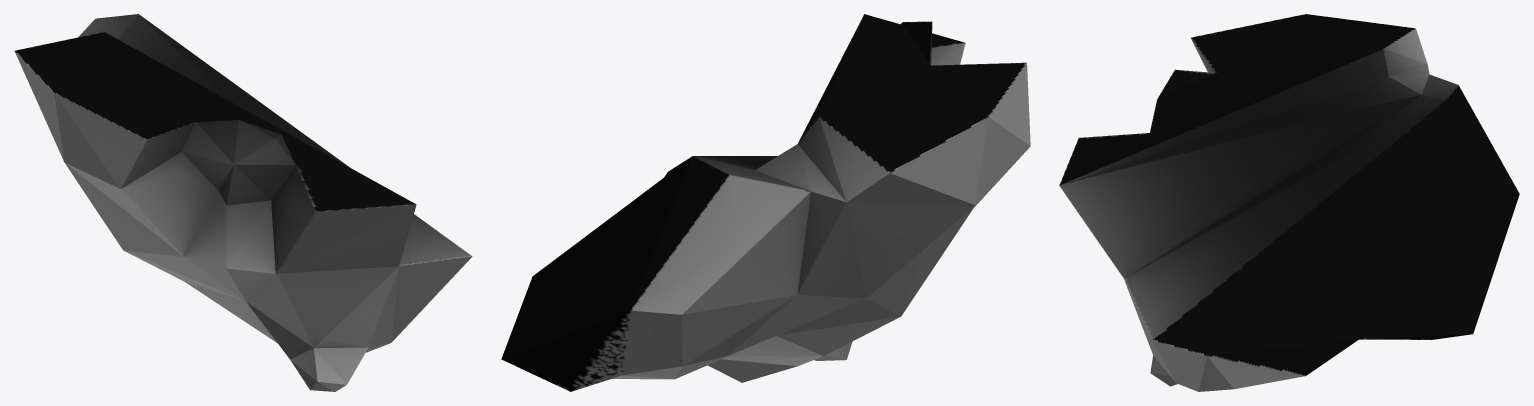
File: asteroid_split_part3.fbx
3 renders of one model, left to right at view 1: azimuth 30°, elevation 25°; view 2: azimuth 150°, elevation 25°; view 3: azimuth 270°, elevation 25°, orthographic. The views are drawn at different scales.
Visible parts, largest first — view 1: Cube; view 2: Cube; view 3: Cube.
Boxes of the visible parts, x1=… form: Cube: x1=14, y1=14, x2=472, y2=391; Cube: x1=501, y1=14, x2=1030, y2=391; Cube: x1=1059, y1=14, x2=1519, y2=391.
Size of the model in its own units: 3.2 by 2.73 by 4.
